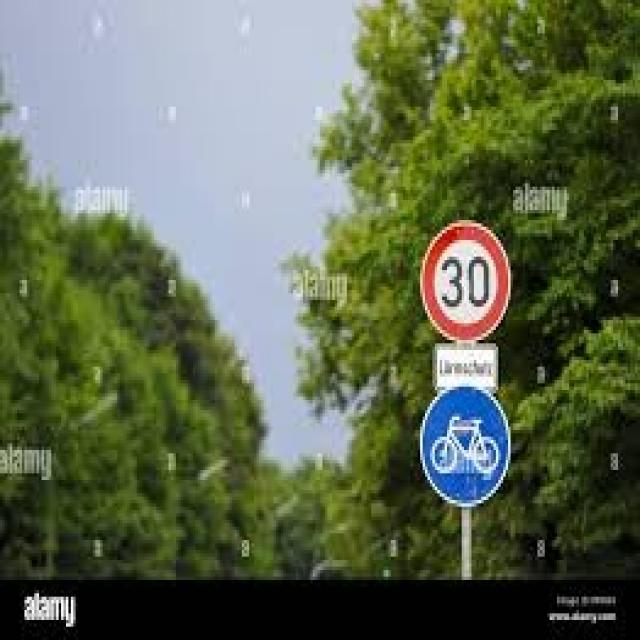bicycle: (411, 370, 517, 516)
